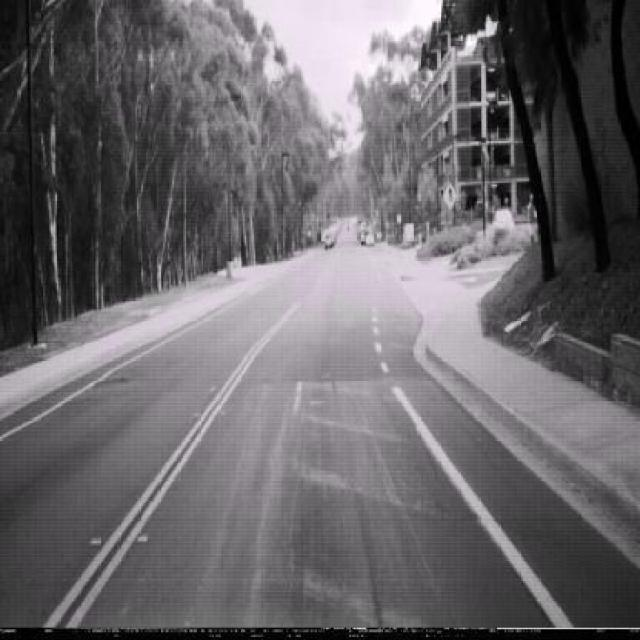pedestrianCrossing: (443, 180, 459, 211)
